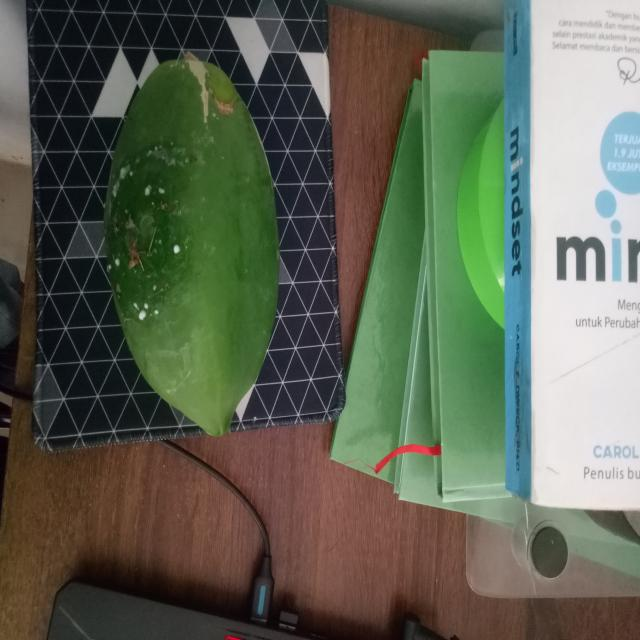Pepaya unrippen: (93, 36, 277, 438)
